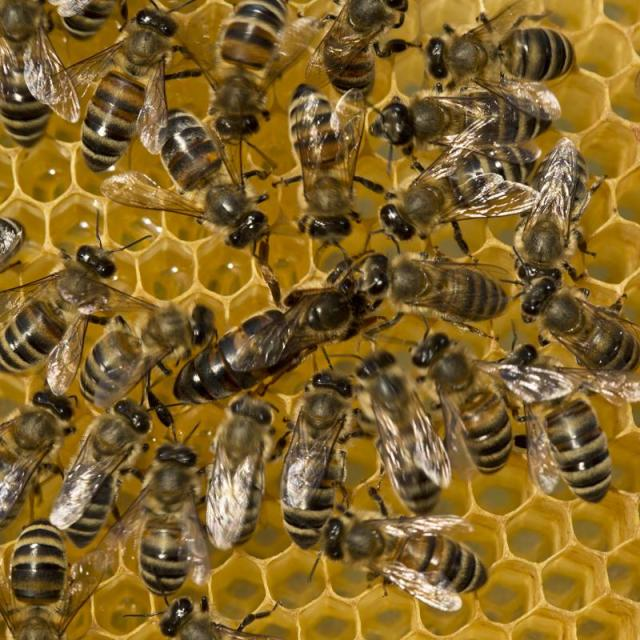honeybee: (326, 492, 470, 618), (414, 6, 622, 90), (136, 430, 228, 614), (230, 278, 368, 398), (362, 244, 502, 362), (278, 82, 366, 254), (170, 280, 330, 372), (166, 100, 254, 252), (382, 78, 564, 150), (328, 332, 416, 474), (66, 314, 222, 394), (512, 266, 620, 380), (0, 268, 142, 354), (70, 370, 140, 544), (368, 146, 492, 242), (72, 26, 156, 166), (204, 396, 288, 528), (0, 522, 92, 640), (424, 336, 498, 452), (0, 10, 62, 136), (520, 382, 594, 486), (312, 348, 356, 506), (496, 168, 588, 240), (318, 0, 396, 84), (0, 410, 58, 514), (220, 14, 274, 98)
